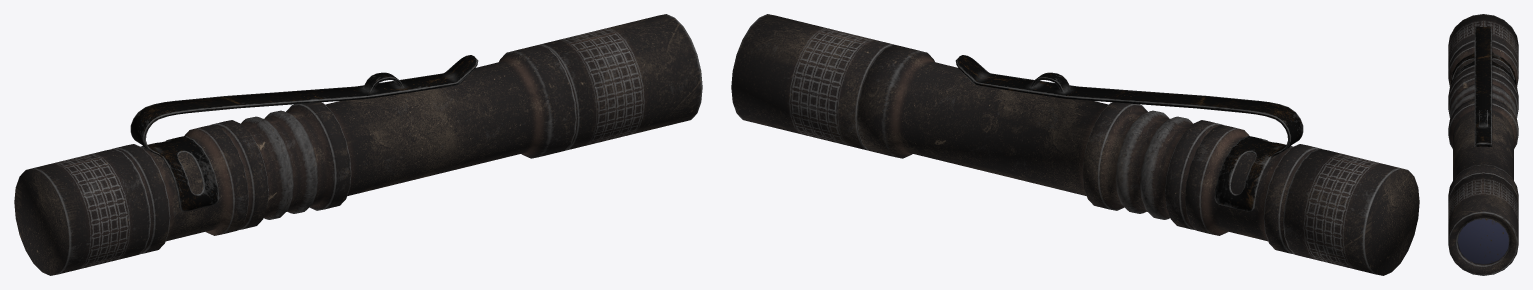
File: torch.glb
The picture shows the model from 3 angles, left to right: view 1: azimuth 30°, elevation 25°; view 2: azimuth 150°, elevation 25°; view 3: azimuth 270°, elevation 25°; orthographic projection. The views are drawn at different scales.
Visible parts, largest first — view 1: body_low; view 2: body_low; view 3: body_low.
Part boxes in pixels (x1=…): body_low: x1=14, y1=14, x2=702, y2=275; body_low: x1=731, y1=14, x2=1419, y2=275; body_low: x1=1448, y1=14, x2=1518, y2=275.
Size of the model in its own units: 0.9319 by 0.1888 by 0.1404.
1 material, 1 textured.
